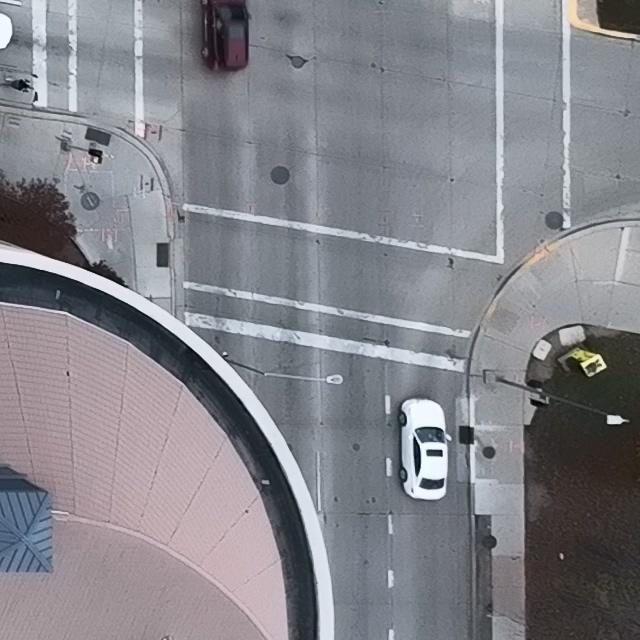car: (398, 398, 452, 501), (199, 0, 251, 72)
